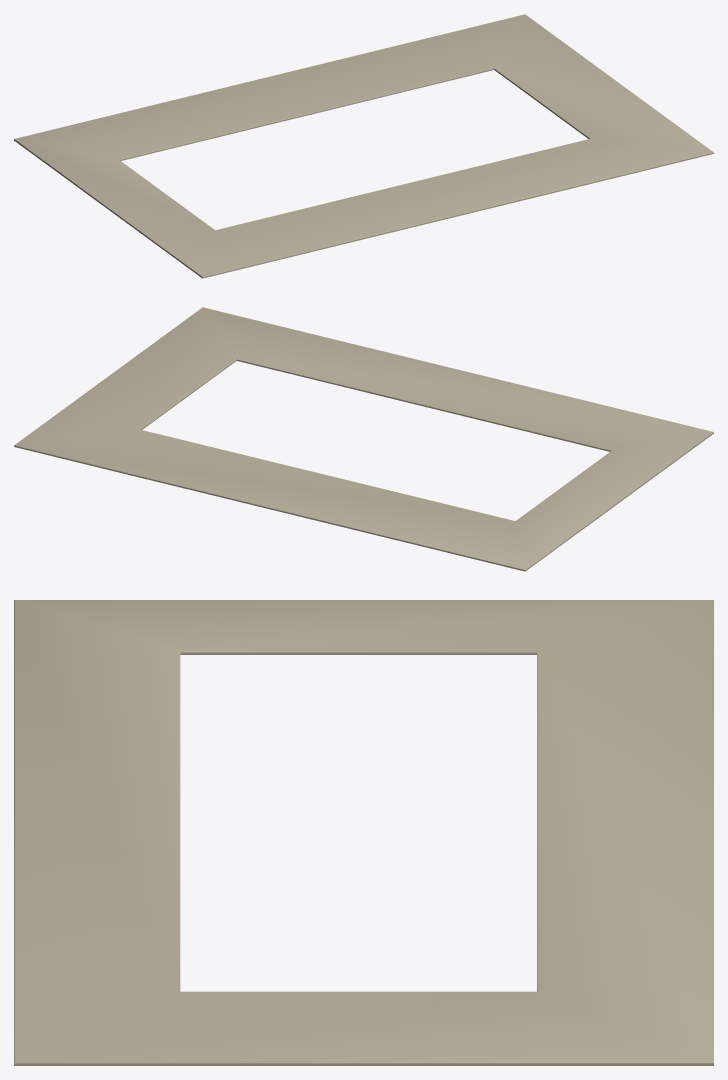
Rendered from ковёр.fbx.
The picture shows the model from 3 angles, top to bottom: view 1: azimuth 30°, elevation 25°; view 2: azimuth 150°, elevation 25°; view 3: azimuth 270°, elevation 25°; orthographic projection. The views are drawn at different scales.
Visible parts, largest first — view 1: ковёр; view 2: ковёр; view 3: ковёр.
Part boxes in pixels (x1,y1,x2,y2): ковёр: (14,14,713,278); ковёр: (14,307,713,571); ковёр: (14,600,713,1065).
Size of the model in its own units: 694 by 2.24 by 444.
